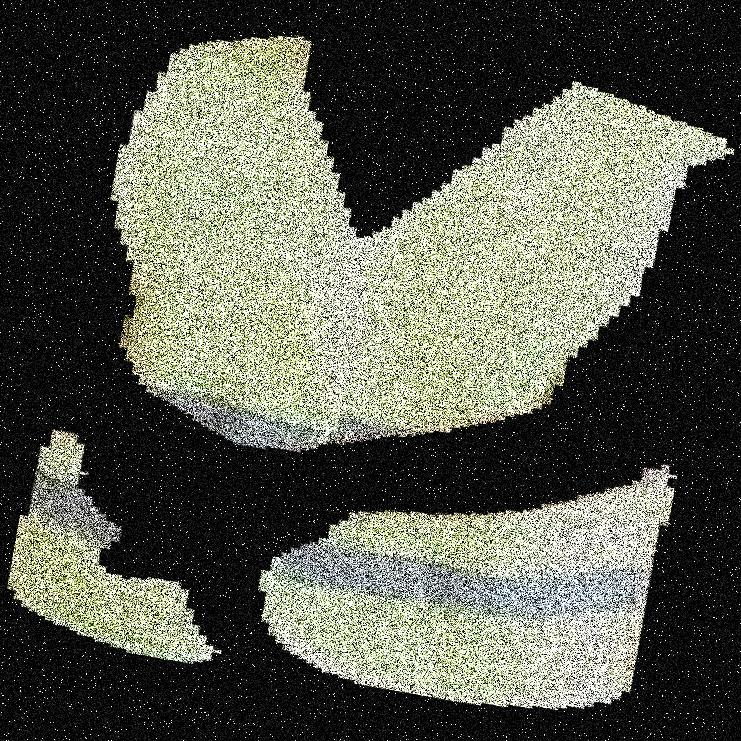Colete: (343, 0, 628, 740)
